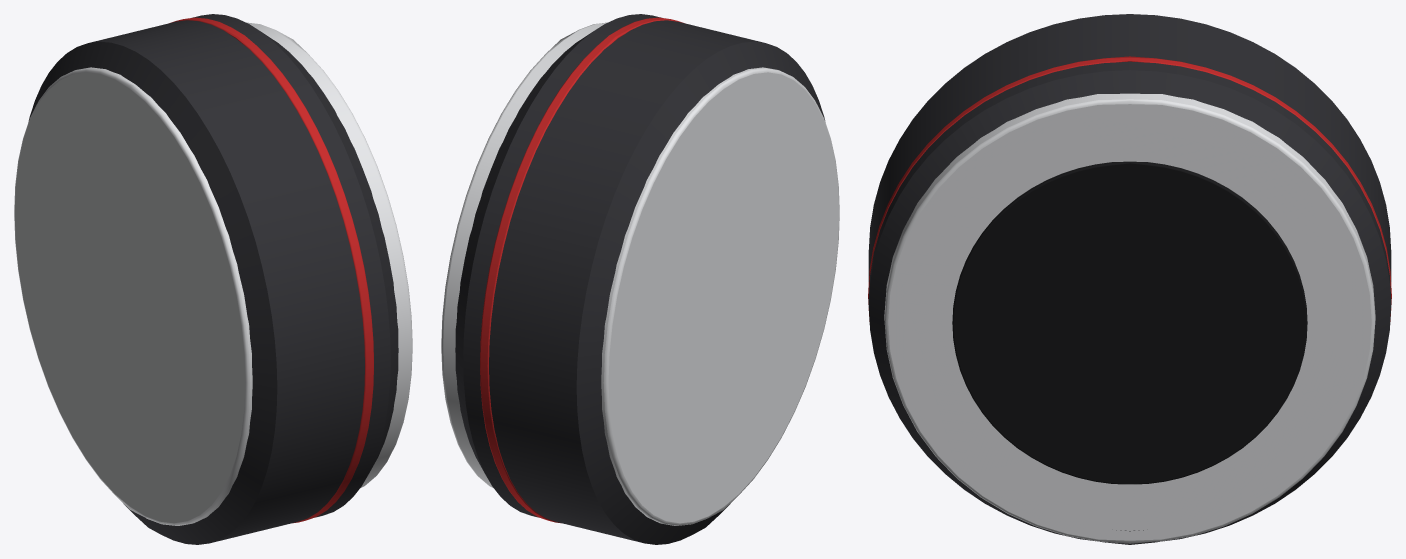
The model's file is fringer_ef_fx.glb.
3 views of the same model, side by side, from view 1: azimuth 30°, elevation 25°; view 2: azimuth 150°, elevation 25°; view 3: azimuth 270°, elevation 25° (orthographic).
Parts seen in each view (by area): view 1: Fringer EF-FX Pro II; view 2: Fringer EF-FX Pro II; view 3: Fringer EF-FX Pro II.
Part boxes in pixels (x1,y1,x2,y2): Fringer EF-FX Pro II: (14, 14, 412, 544); Fringer EF-FX Pro II: (441, 14, 839, 544); Fringer EF-FX Pro II: (868, 14, 1391, 544).
Bounding box in the file's own units: 0.027 × 0.0723 × 0.0722.
